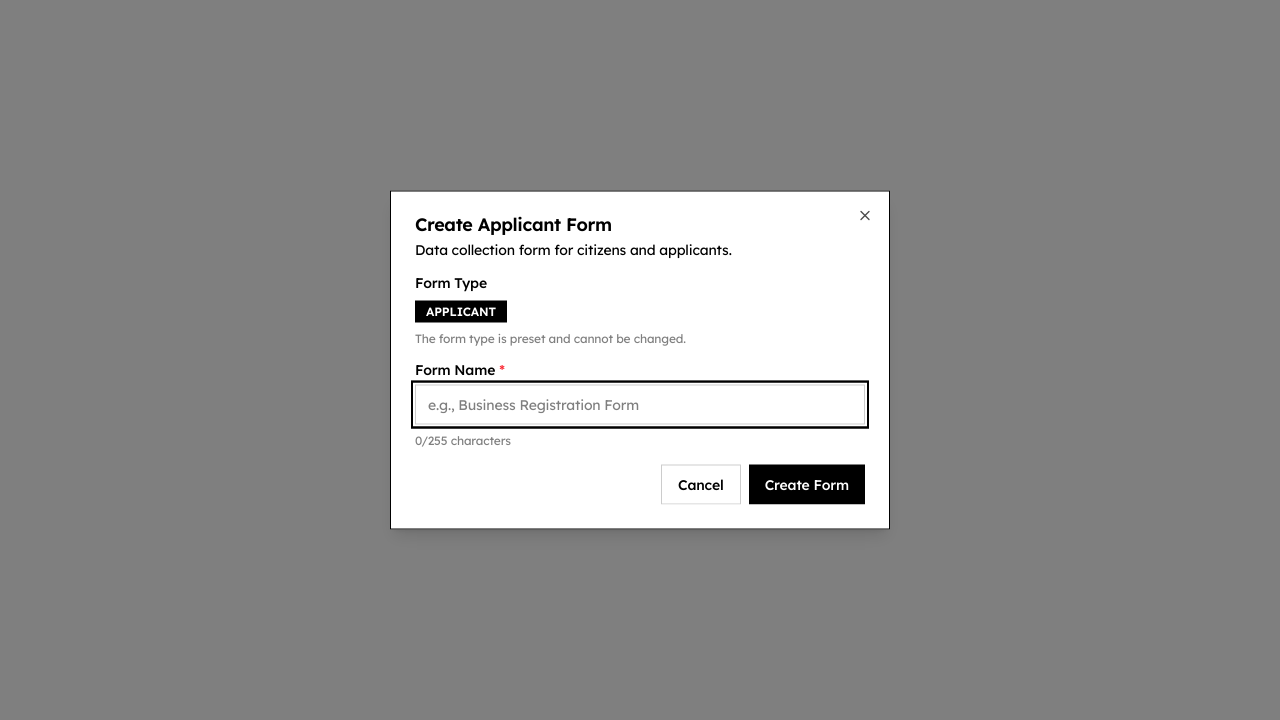
Test: CreateFormDialog › Form Submission › shows error message on create failure
Type "Duplicate Form" into the field labelled "Form Name *" at (640, 404), box 415,384 -> 865,424
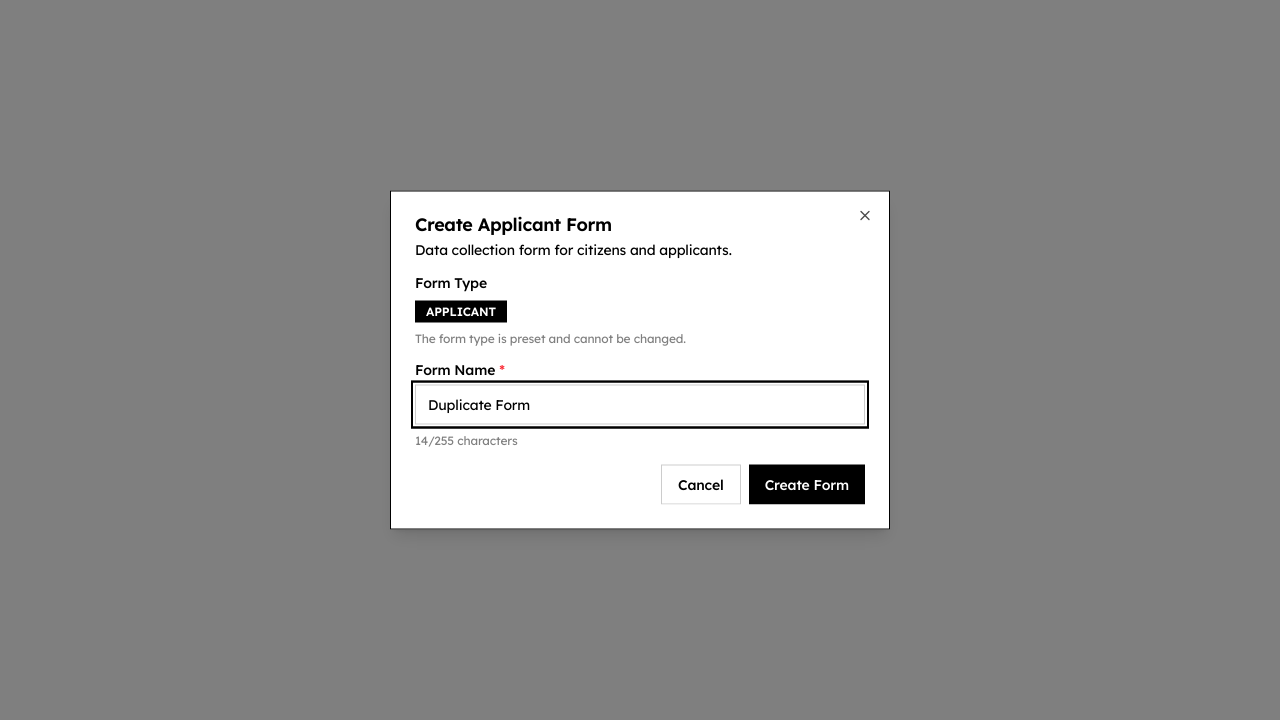
Click the button "Create Form" at (807, 484), box 749,464 -> 865,504
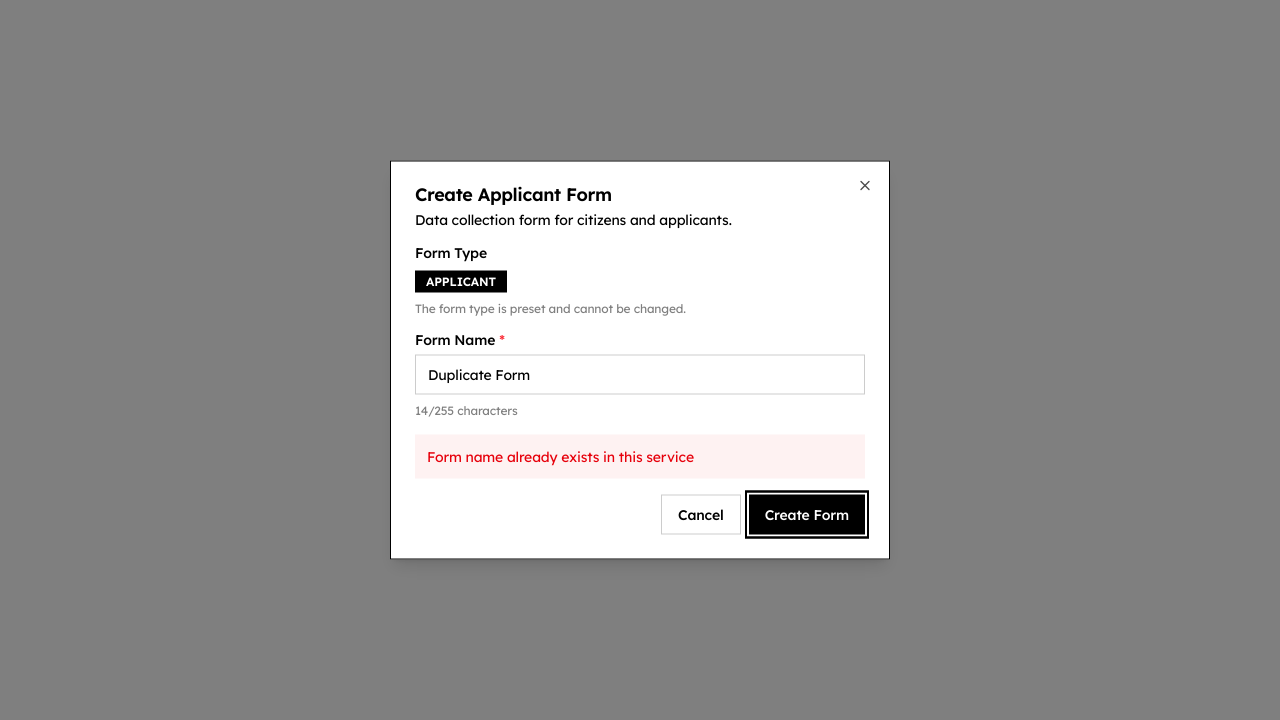
Expected: the text "Form name already exists in this service" is shown, 415,434 -> 865,478
